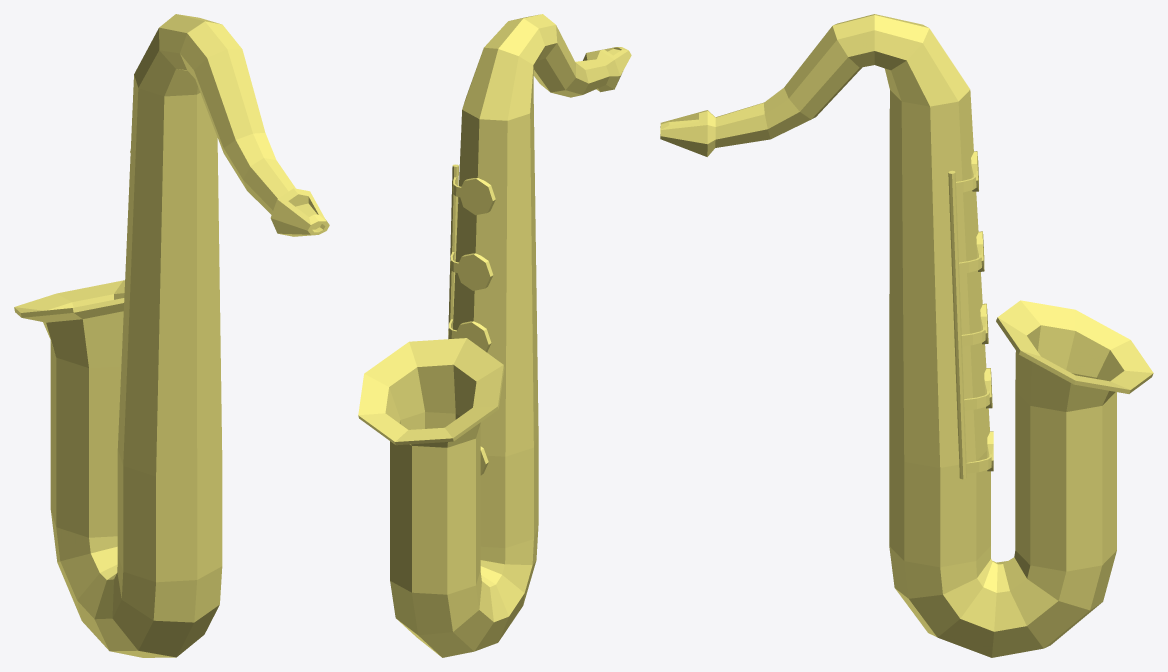
The model's file is Saxophone_from_Poly_by_Google.glb.
The picture shows the model from 3 angles, left to right: view 1: azimuth 30°, elevation 25°; view 2: azimuth 150°, elevation 25°; view 3: azimuth 270°, elevation 25°; orthographic projection. The views are drawn at different scales.
Parts seen in each view (by area): view 1: unnamed (×2); view 2: unnamed (×2); view 3: unnamed (×2).
Part boxes in pixels (x1,y1,x2,y2): unnamed (×2): (14, 14, 329, 657); unnamed (×2): (358, 14, 631, 657); unnamed (×2): (660, 14, 1153, 657).
Size of the model in its own units: 3.8 by 16 by 11.16.
